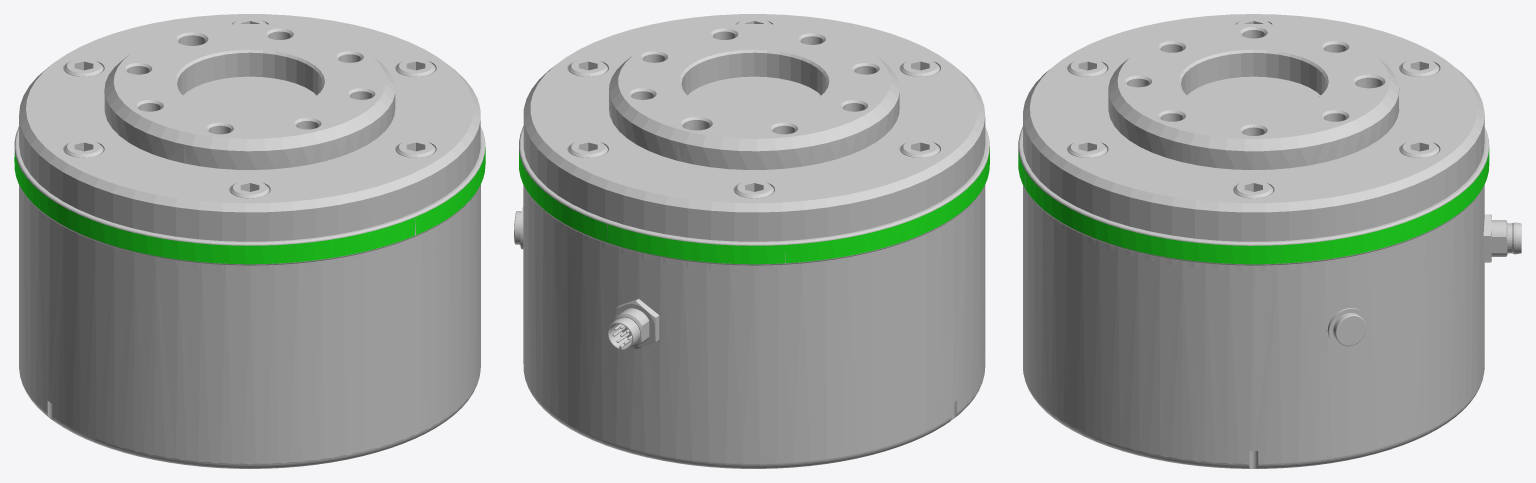
Rendered from symphony20_6_b.dae.
3 views of the same model, side by side, from view 1: azimuth 30°, elevation 25°; view 2: azimuth 150°, elevation 25°; view 3: azimuth 270°, elevation 25° (orthographic).
Parts seen in each view (by area): view 1: link6; view 2: link6; view 3: link6.
Boxes of the visible parts, x1=… form: link6: x1=14, y1=14, x2=485, y2=468; link6: x1=514, y1=14, x2=989, y2=468; link6: x1=1018, y1=14, x2=1521, y2=468.
Size of the model in its own units: 0.102 by 0.109 by 0.07.
